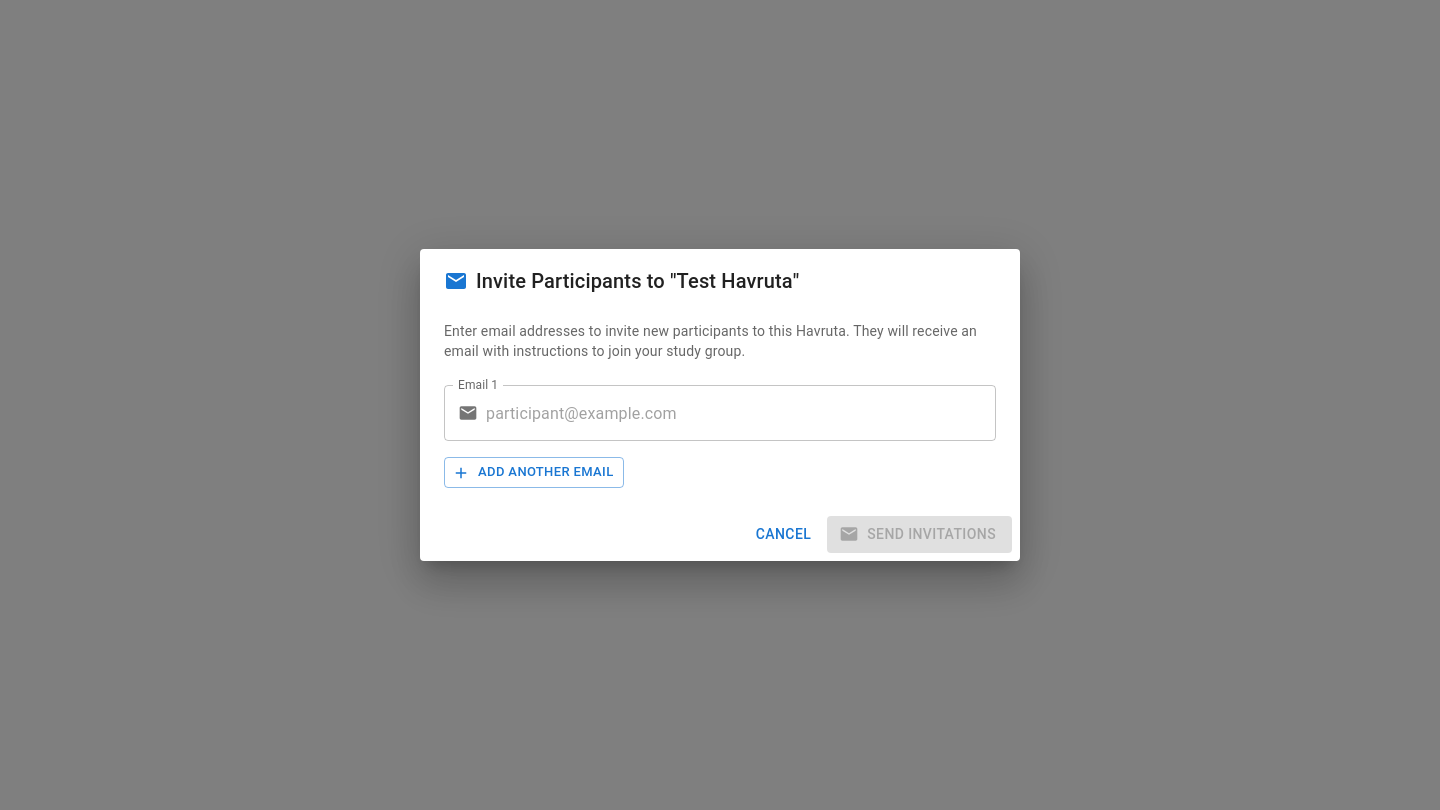
Test case: ParticipantInvitationDialog › adds additional email fields when Add Another Email is clicked
The width and height of the screenshot is (1440, 810).
Expected: the field labelled "Email 1" is shown, left=486, top=385, right=996, bottom=441
Expected: the field labelled "Email 2" is not shown
Note: Click add another email
Step 1. Click the button "Add Another Email" → {"x": 534, "y": 473}, box left=444, top=457, right=624, bottom=488
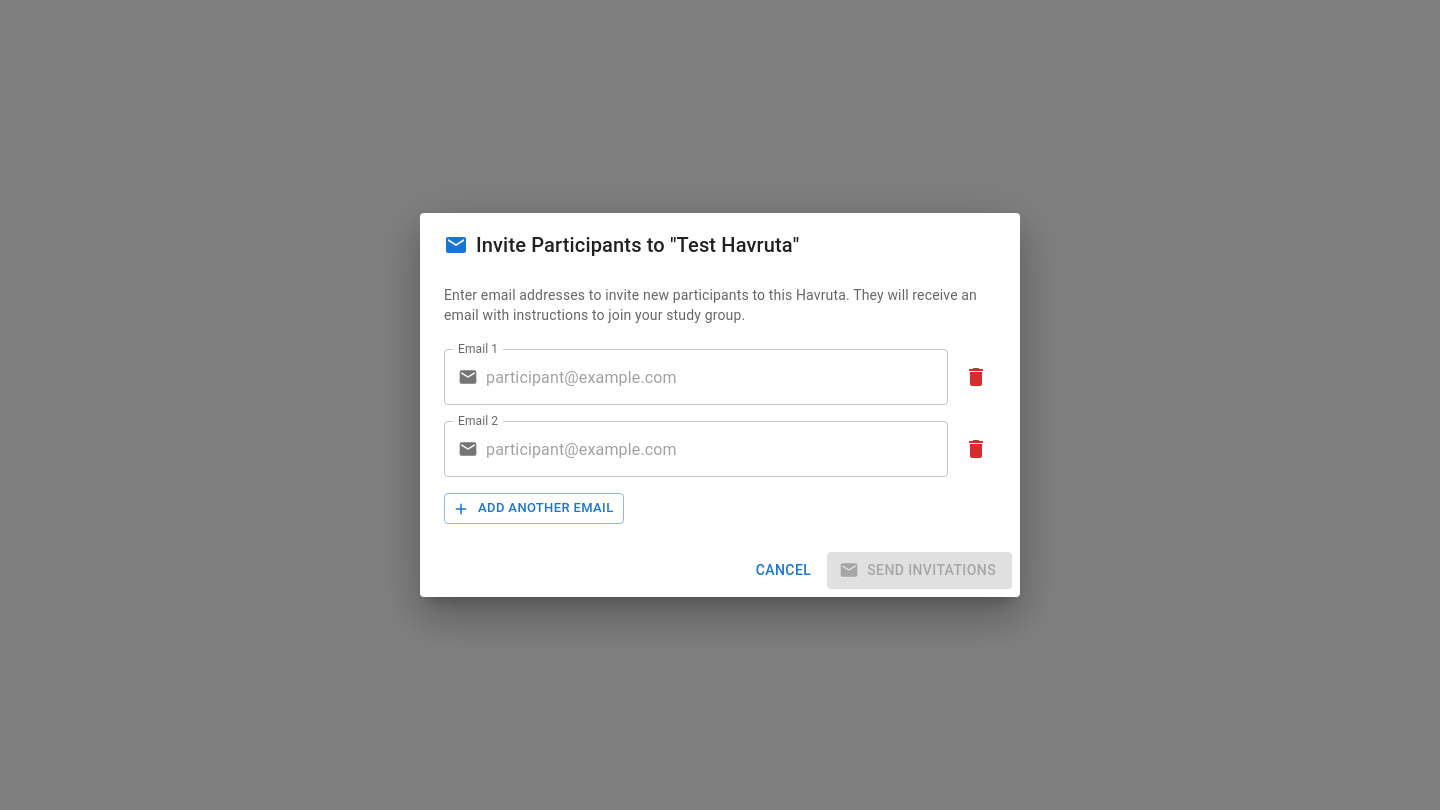
Expected: the field labelled "Email 1" is shown, left=486, top=349, right=948, bottom=405
Result: the field labelled "Email 2" is shown at left=486, top=421, right=948, bottom=477
